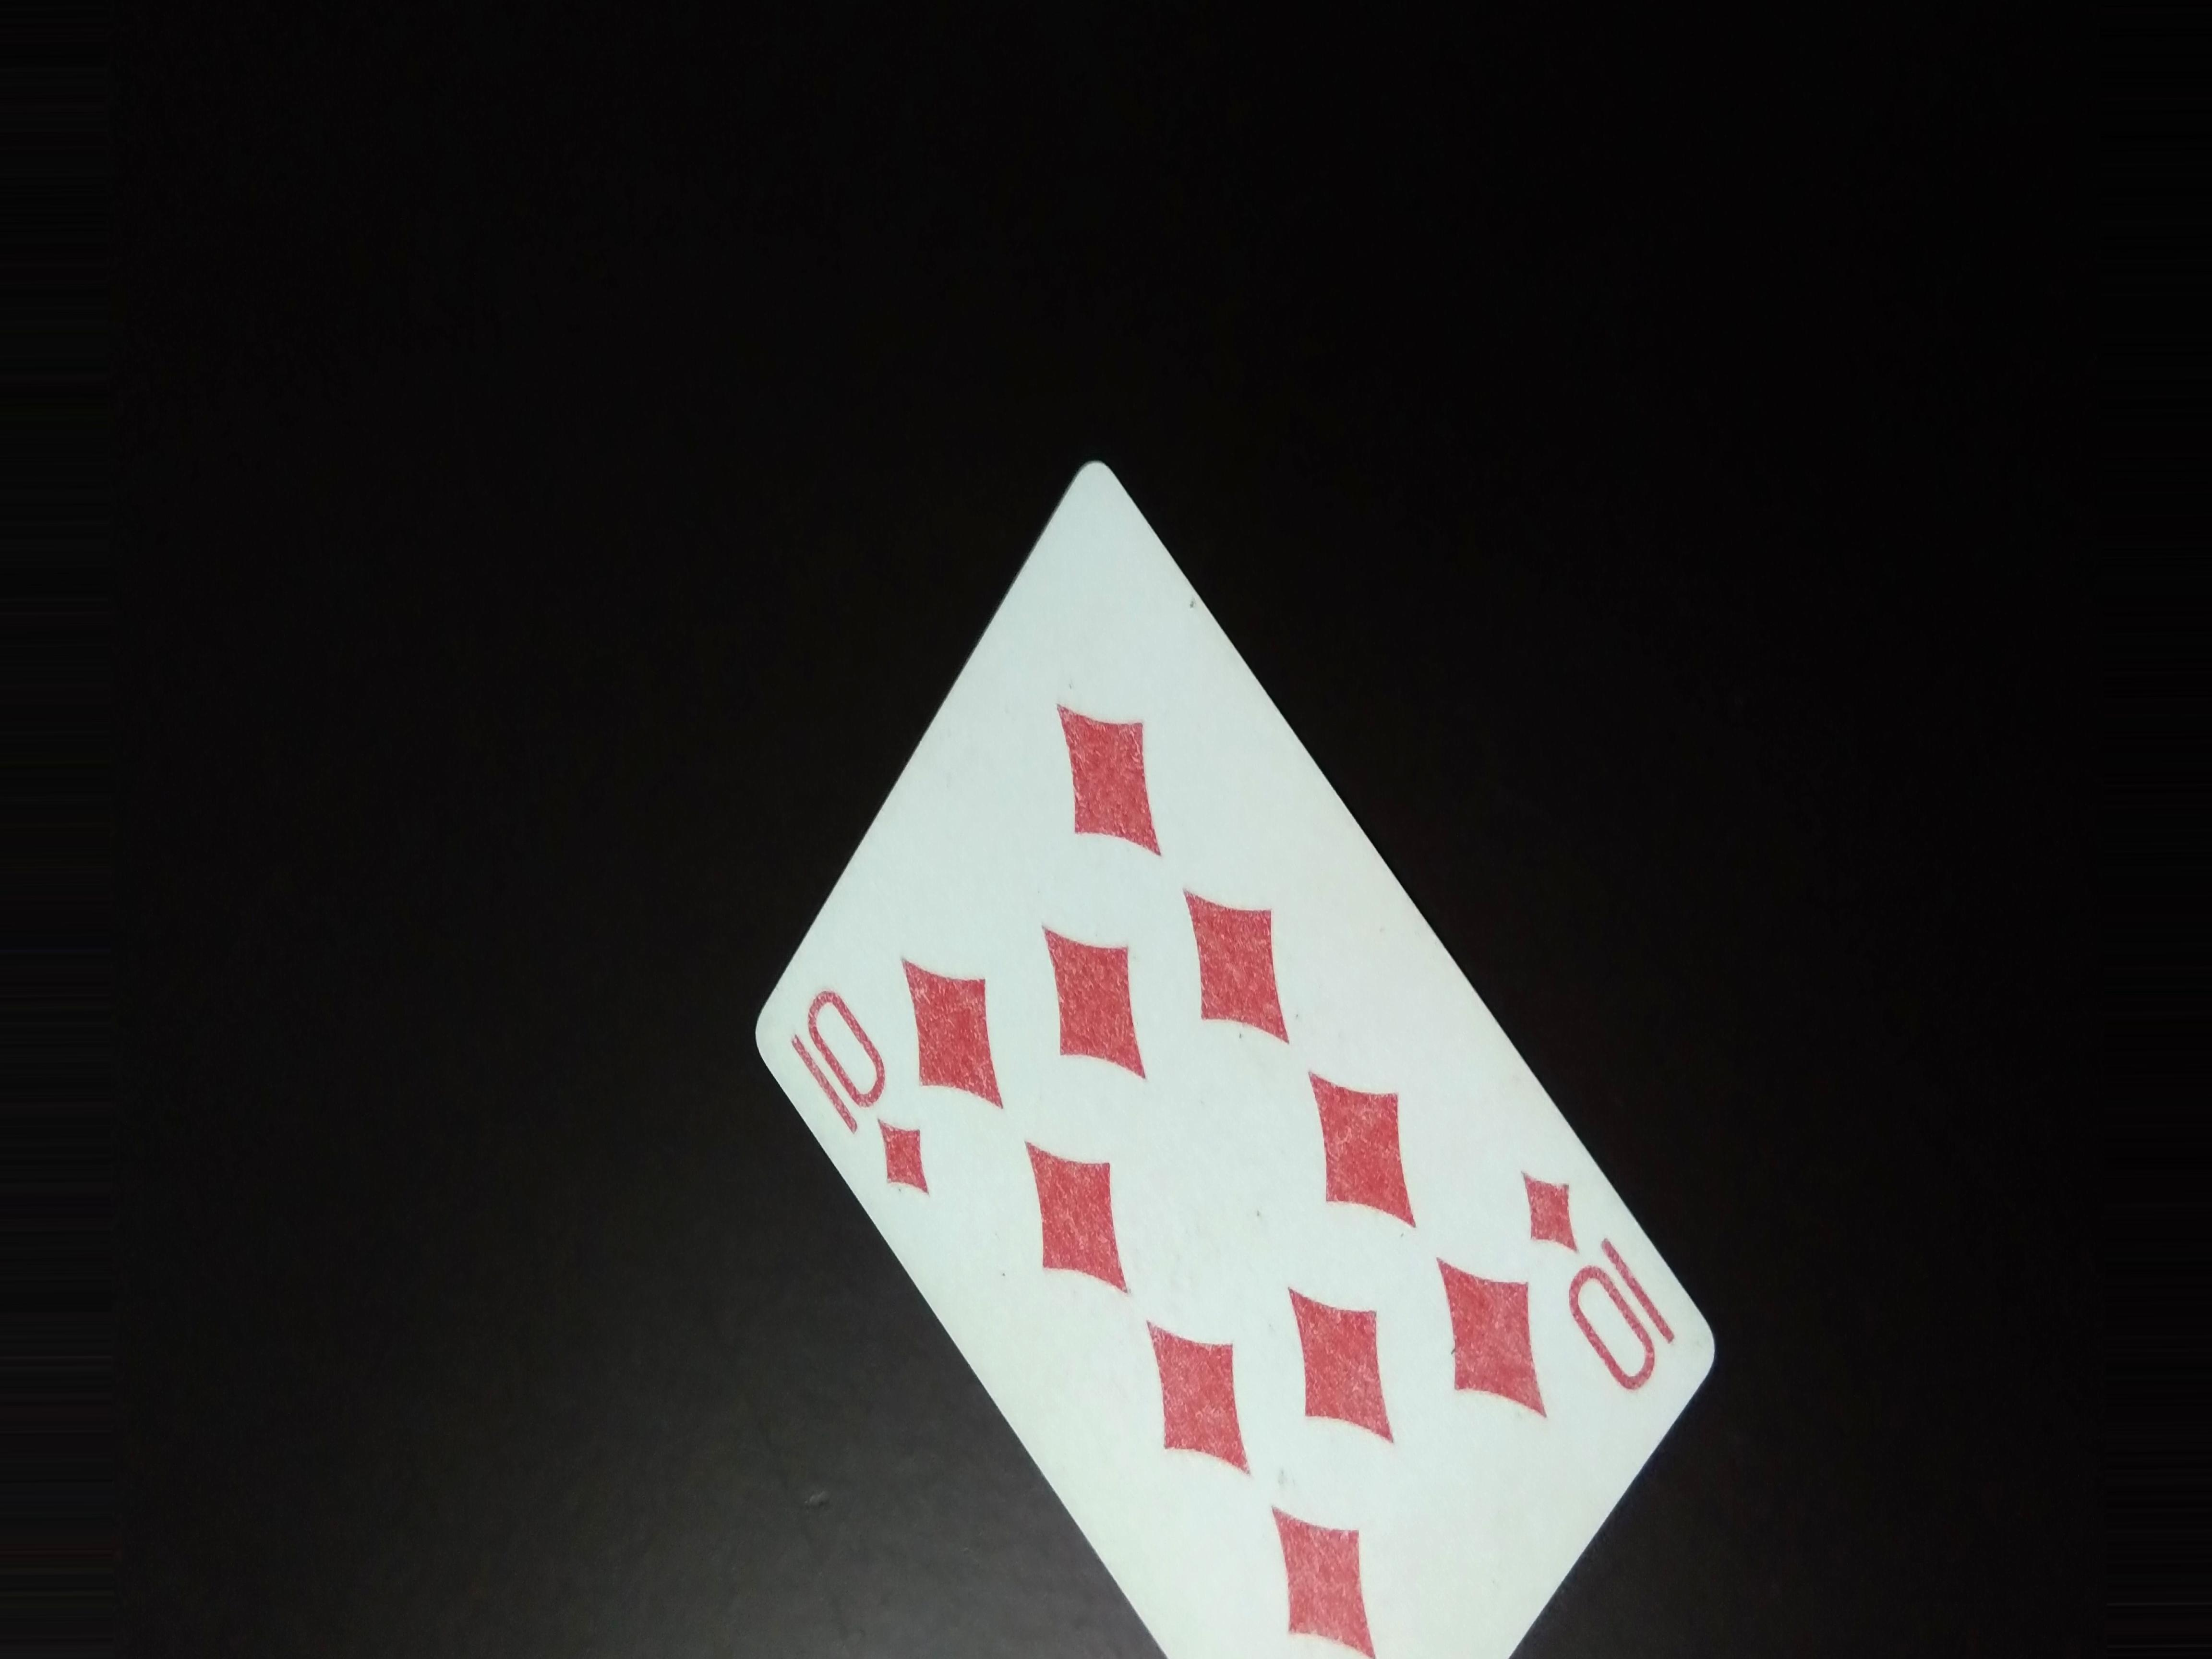10D: (786, 972, 939, 1194)
